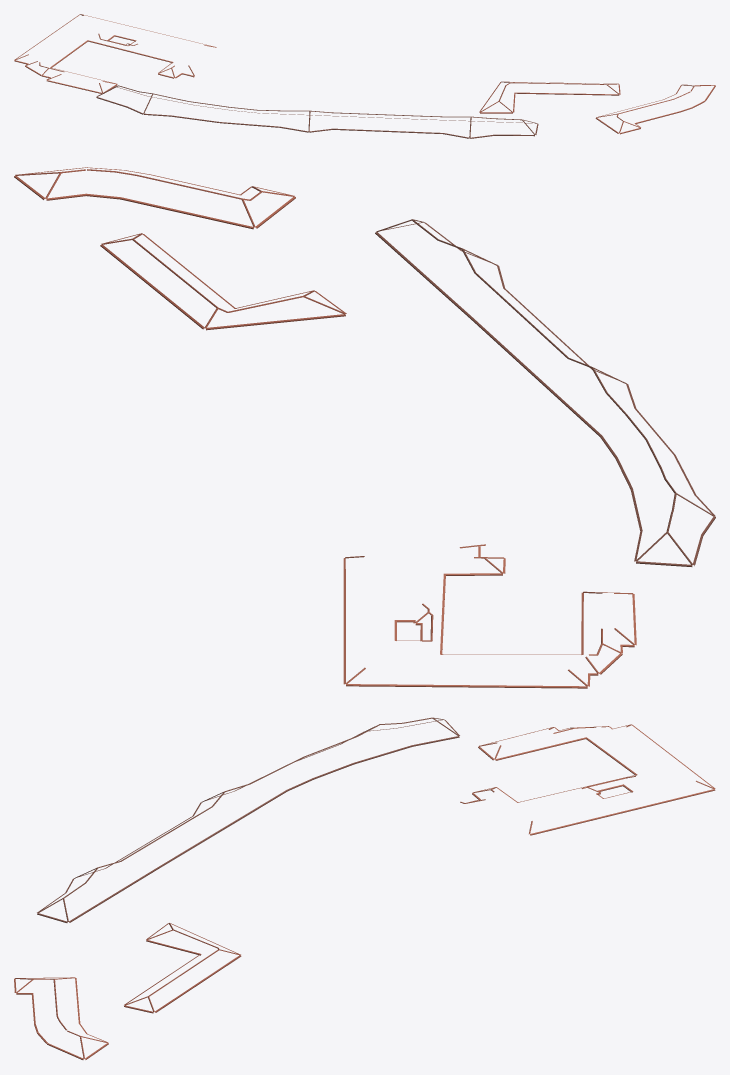
3 renders of one model, top to bottom at view 1: azimuth 30°, elevation 25°; view 2: azimuth 150°, elevation 25°; view 3: azimuth 270°, elevation 25°, orthographic. The views are drawn at different scales.
Visible parts, largest first — view 1: detail; view 2: detail; view 3: detail.
Boxes of the visible parts, <box> form: detail: <box>14,14,715,138</box>; detail: <box>14,167,715,688</box>; detail: <box>14,717,715,1059</box>.
Bounding box in the file's own units: 158 × 7.48 × 140.
